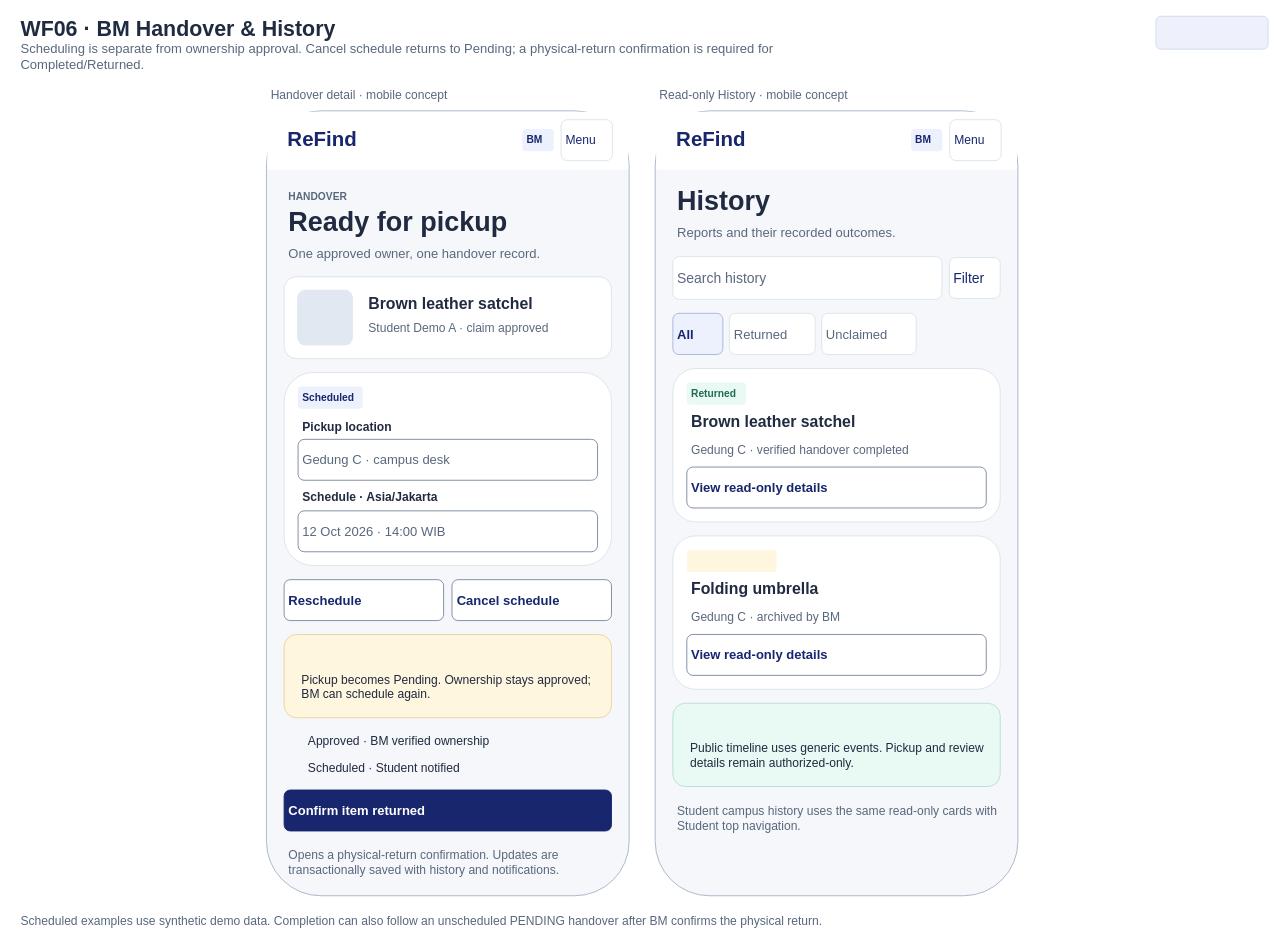
This 1284x946 diagram has some shape labels left out. The shapes that lost their labels are listed below. From the top down, each one's centre as x and y in pixels, then its label:
At pixel 1211 32: "CONCEPT / UX01".
At pixel 324 317: "PHOTO".
At pixel 731 560: "Never retrieved".
